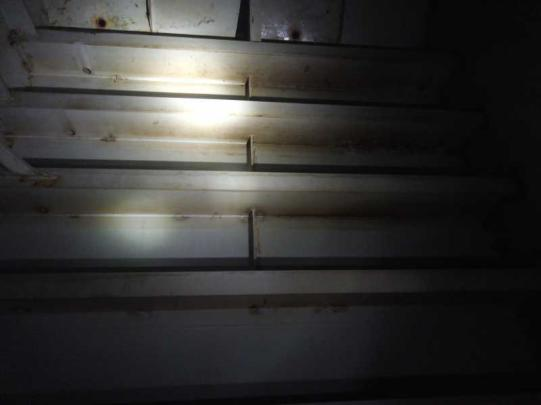corrosion: (142, 126, 369, 149), (244, 208, 411, 233), (175, 71, 368, 92), (80, 204, 206, 224), (54, 119, 90, 142), (76, 59, 101, 84), (84, 13, 112, 32), (27, 195, 52, 214), (80, 130, 109, 140)
